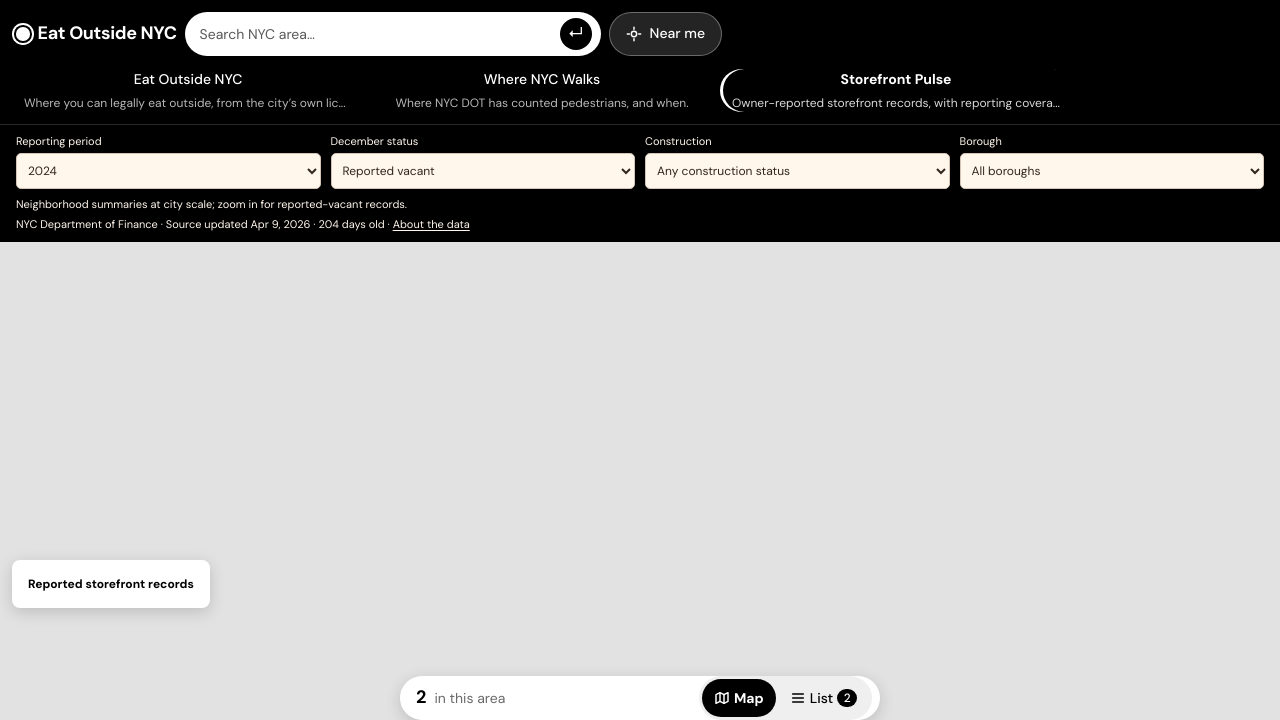
Test: Storefront Pulse in the shared app › opens an unmapped summary from the list without flying to invented coordinates
Click the radio button labelled "List 2" at [823, 698], box [778,679,869,717]
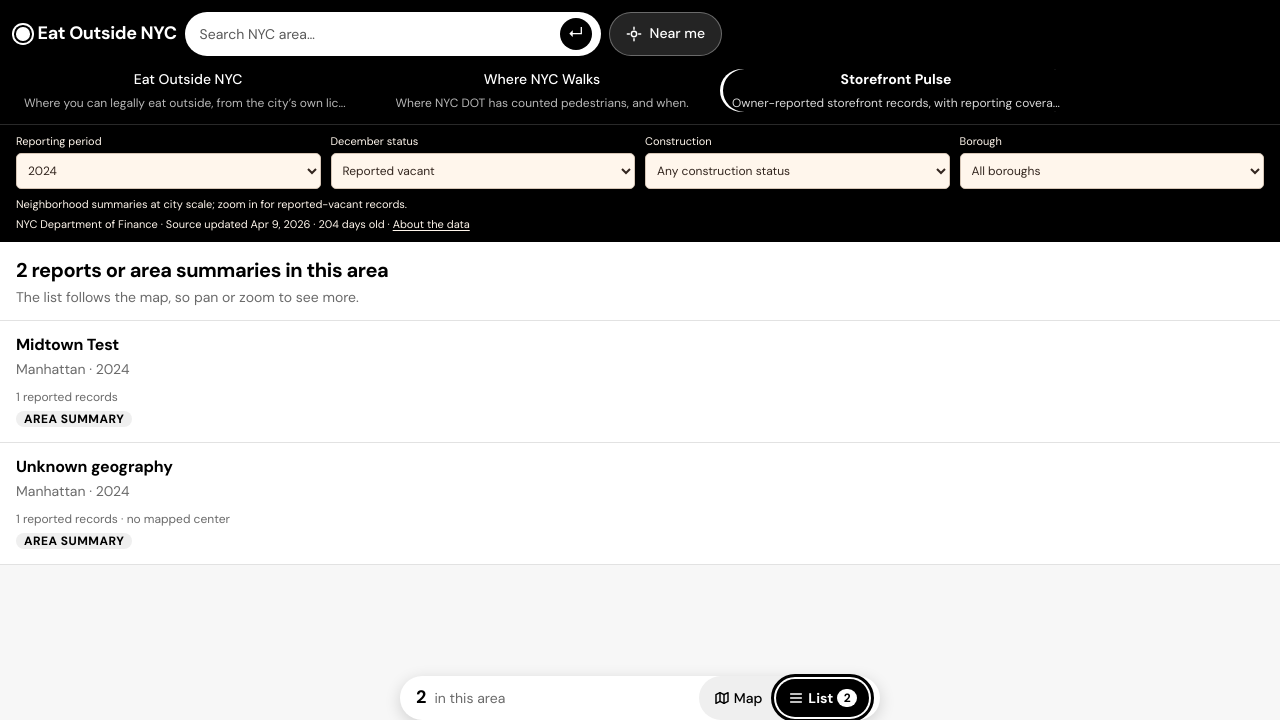
Click the text "Unknown geography" at [94, 467], box [16,455,173,479]
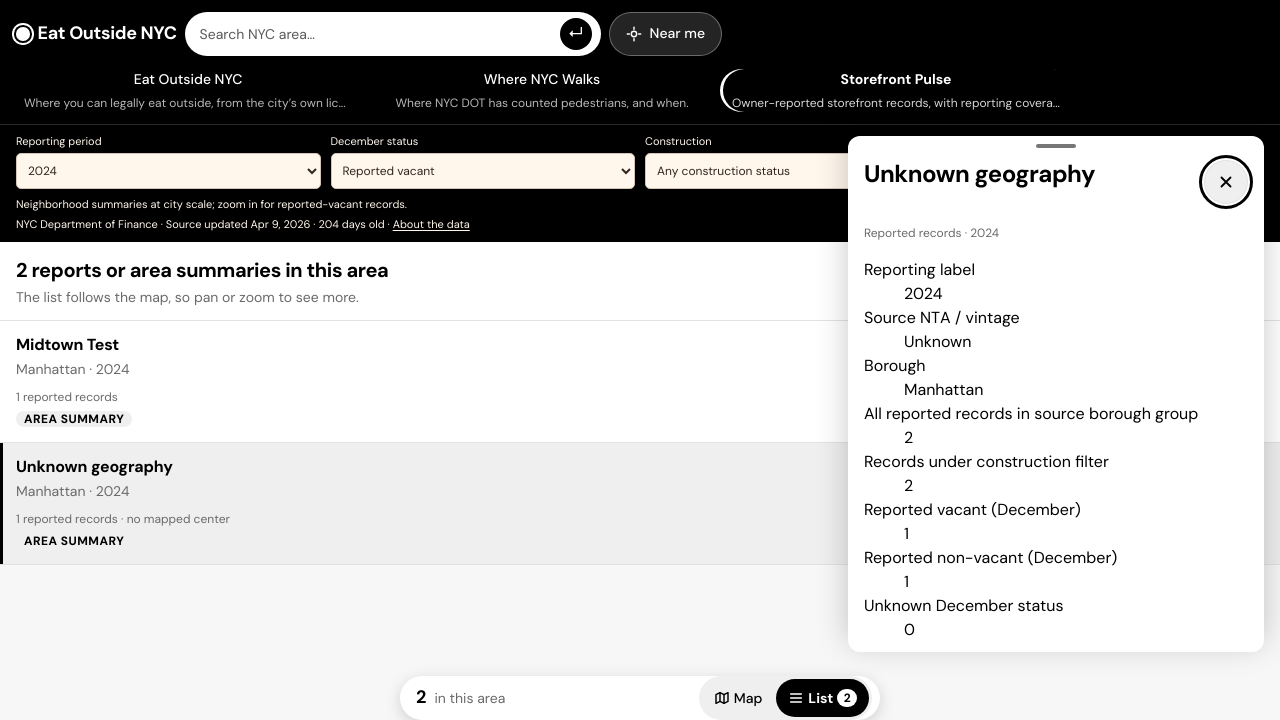
Expected: the dialog is shown, [848,136,1264,652]
